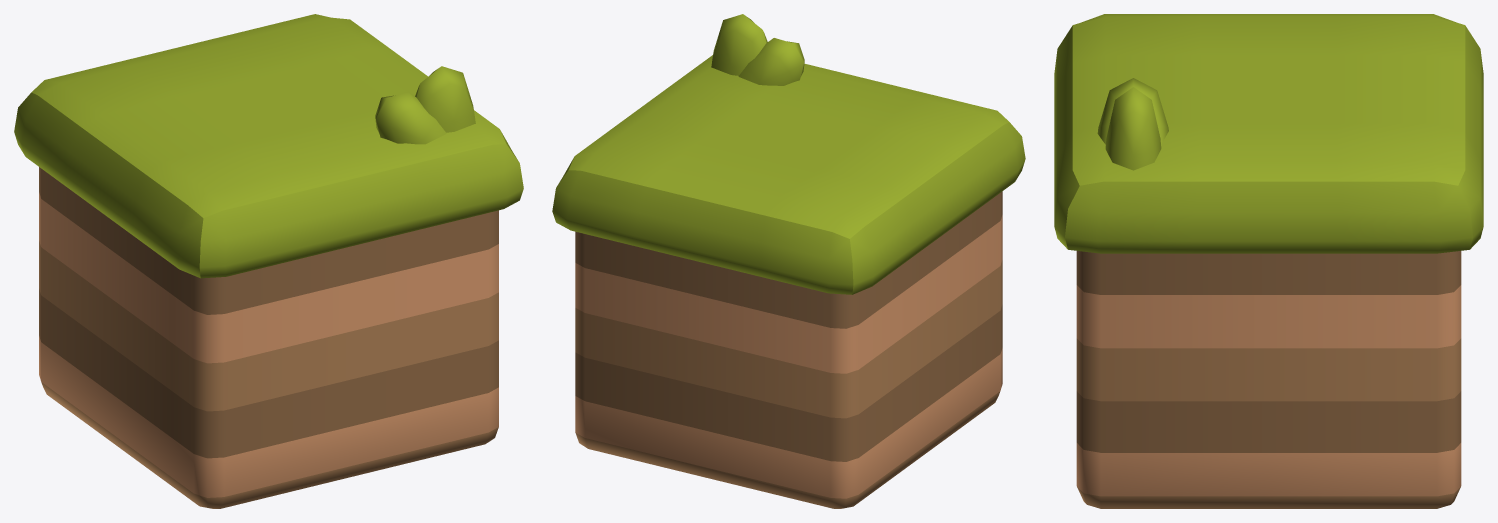
File: tile_3.glb
The picture shows the model from 3 angles, left to right: view 1: azimuth 30°, elevation 25°; view 2: azimuth 150°, elevation 25°; view 3: azimuth 270°, elevation 25°; orthographic projection. The views are drawn at different scales.
Visible parts, largest first — view 1: Cube_Grass_Single.000, Grass_3.008; view 2: Cube_Grass_Single.000, Grass_3.008; view 3: Cube_Grass_Single.000, Grass_3.008.
Part boxes in pixels (bbox=[...]): Cube_Grass_Single.000: bbox=[14, 14, 523, 508]; Grass_3.008: bbox=[375, 66, 475, 144]; Cube_Grass_Single.000: bbox=[552, 55, 1025, 508]; Grass_3.008: bbox=[711, 14, 804, 85]; Cube_Grass_Single.000: bbox=[1054, 14, 1483, 508]; Grass_3.008: bbox=[1097, 78, 1168, 170].
Size of the model in its own units: 2.23 by 2.35 by 2.23.
